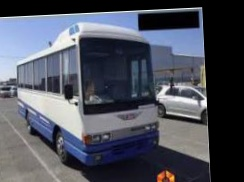bus: (12, 16, 163, 174)
